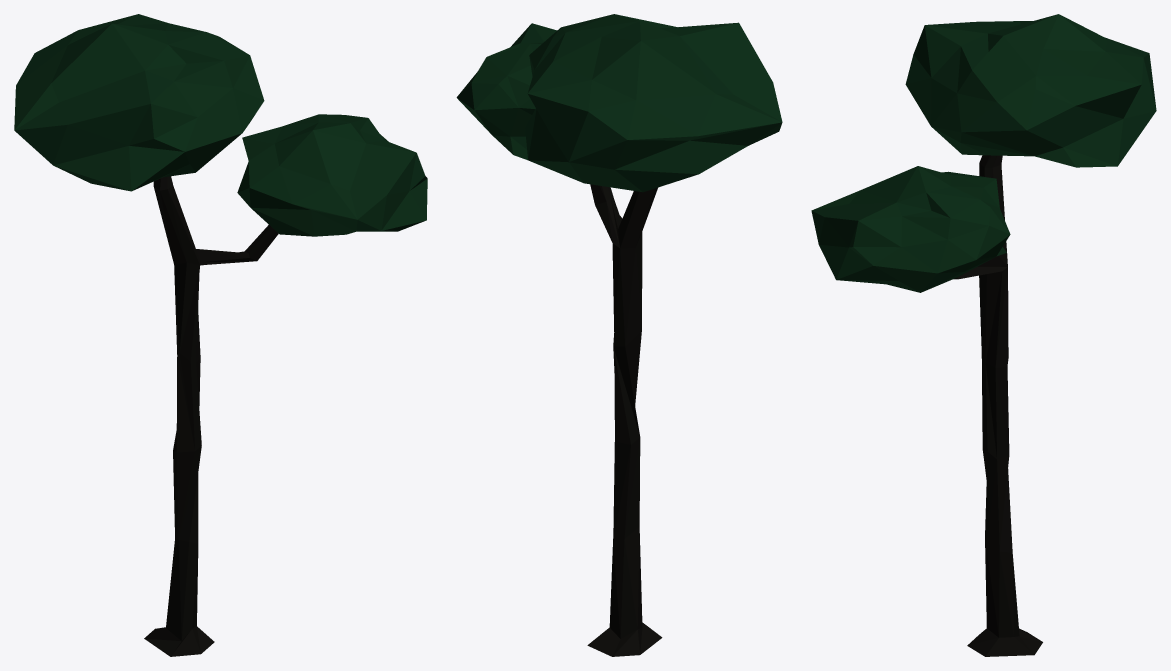
Rendered from KOKS_004.FBX.
The picture shows the model from 3 angles, left to right: view 1: azimuth 30°, elevation 25°; view 2: azimuth 150°, elevation 25°; view 3: azimuth 270°, elevation 25°; orthographic projection. The views are drawn at different scales.
Parts seen in each view (by area): view 1: KOKS_004; view 2: KOKS_004; view 3: KOKS_004.
Boxes of the visible parts, left/top/right/bottom form: KOKS_004: left=14, top=14, right=427, bottom=656; KOKS_004: left=456, top=14, right=782, bottom=656; KOKS_004: left=811, top=14, right=1156, bottom=656.
Size of the model in its own units: 6464 by 10923 by 5587.
